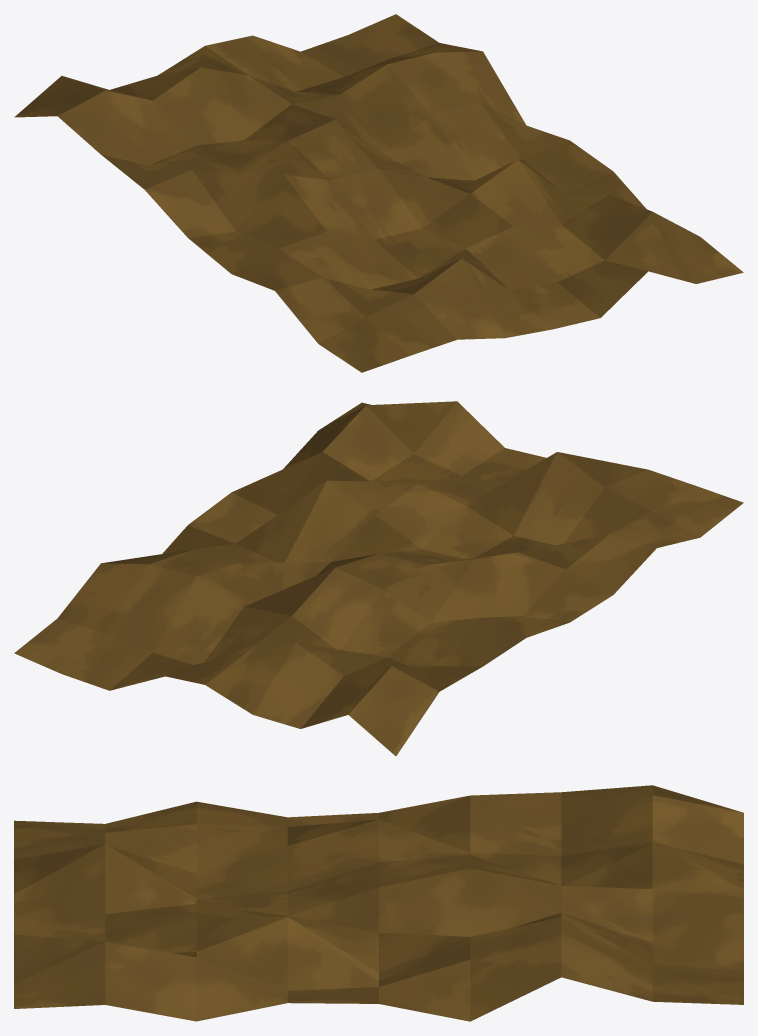
File: comida_na_bandejona.glb
3 views of the same model, one above another, from view 1: azimuth 30°, elevation 25°; view 2: azimuth 150°, elevation 25°; view 3: azimuth 270°, elevation 25° (orthographic). The views are drawn at different scales.
Visible parts, largest first — view 1: comida_na_cesta; view 2: comida_na_cesta; view 3: comida_na_cesta.
Part boxes in pixels (x1,y1,x2,y2): comida_na_cesta: (14, 14, 743, 372); comida_na_cesta: (14, 401, 743, 756); comida_na_cesta: (14, 785, 743, 1021).
Bounding box in the file's own units: 0.921 × 0.1217 × 1.45.
Materials: 1 (1 with a texture image).
